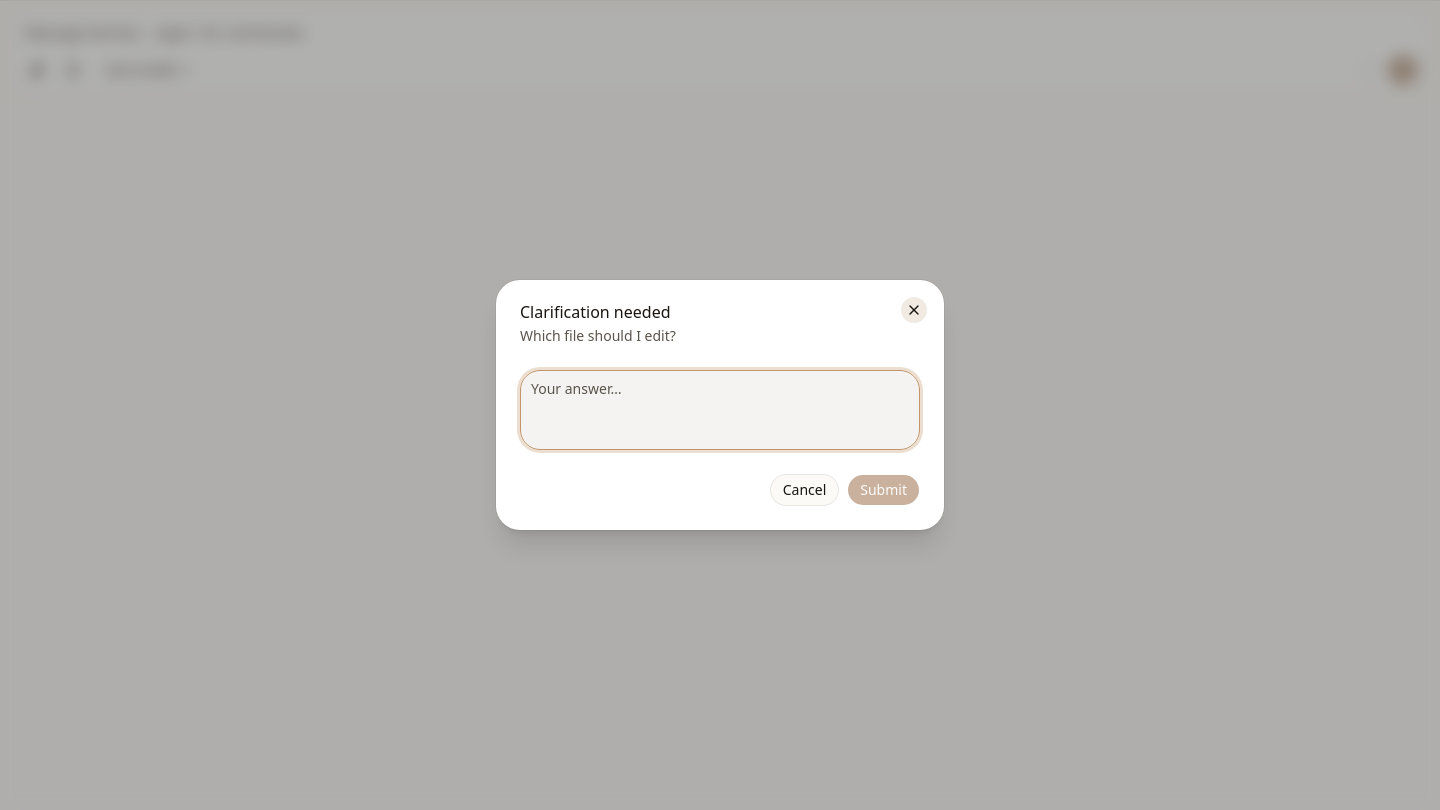
Composer — clarify dialog › opens on a clarify SSE event, answers it, and closes
Expected: the text "Which file should I edit?" is shown, left=520, top=326, right=676, bottom=345
Type "the config file" into the text box named "Response". click: (720, 410)
box: left=520, top=370, right=920, bottom=450
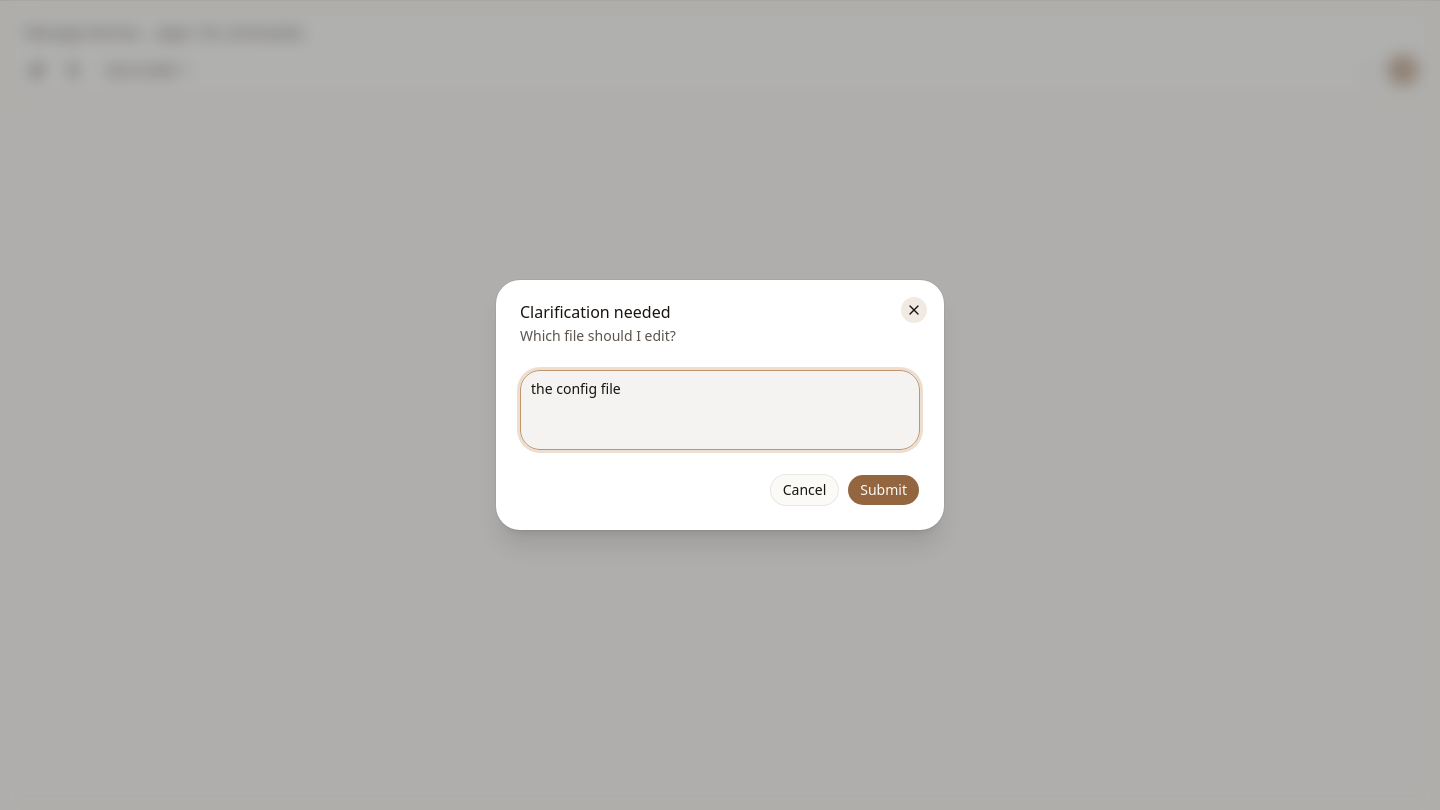
Click the button "Submit". click: click(884, 490)
box: left=847, top=474, right=920, bottom=506
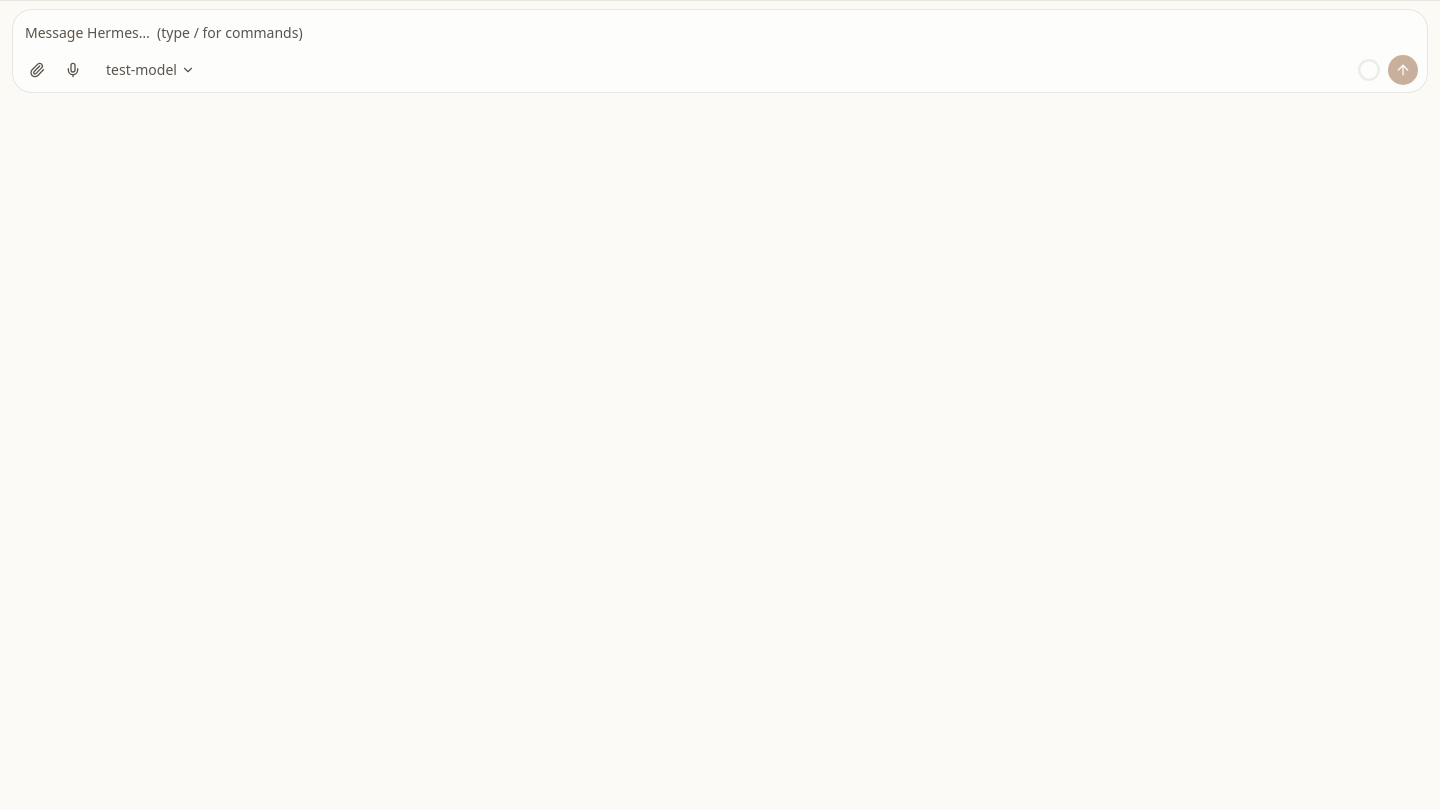
Now the dialog is gone
